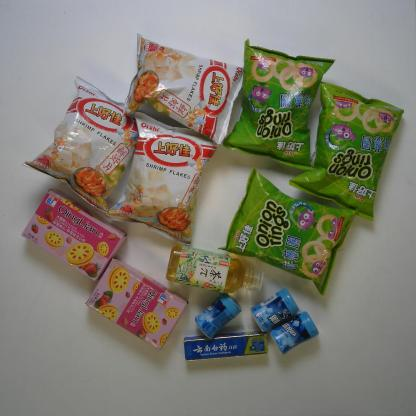Dessert: (19, 185, 132, 284), (82, 258, 192, 351)
Drink: (162, 244, 268, 297)
Gum: (191, 290, 247, 343), (268, 309, 322, 359), (249, 286, 302, 332)
Personal Hygiene: (180, 334, 273, 364)
Puffed Food: (216, 168, 360, 298), (20, 73, 146, 217), (286, 78, 406, 224), (221, 37, 339, 173), (104, 107, 217, 248), (122, 31, 246, 146)
